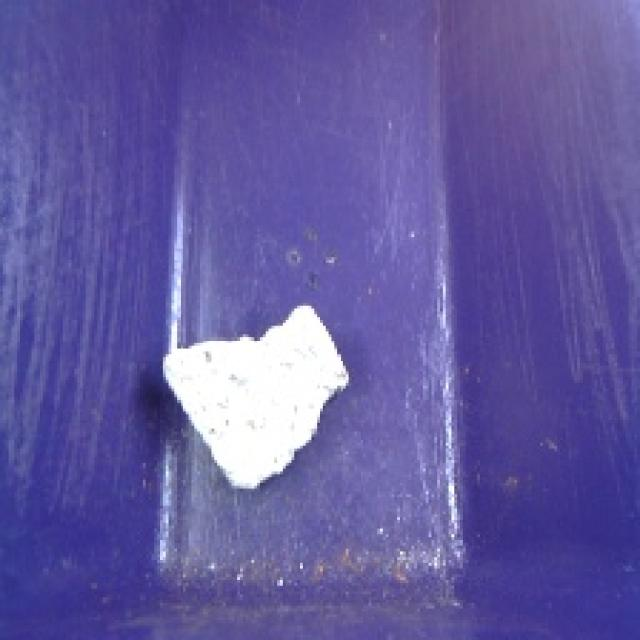brick: (156, 297, 354, 497)
